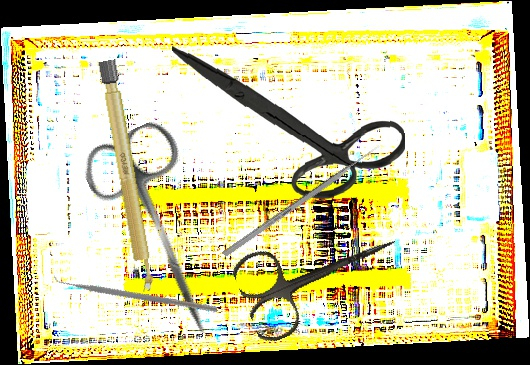Chopper: (50, 216, 219, 364)
Iris Scissors: (75, 115, 252, 352), (172, 36, 407, 206), (228, 201, 413, 347)
Pusher: (222, 143, 382, 258)
Scalpel Handle: (97, 59, 157, 293)
